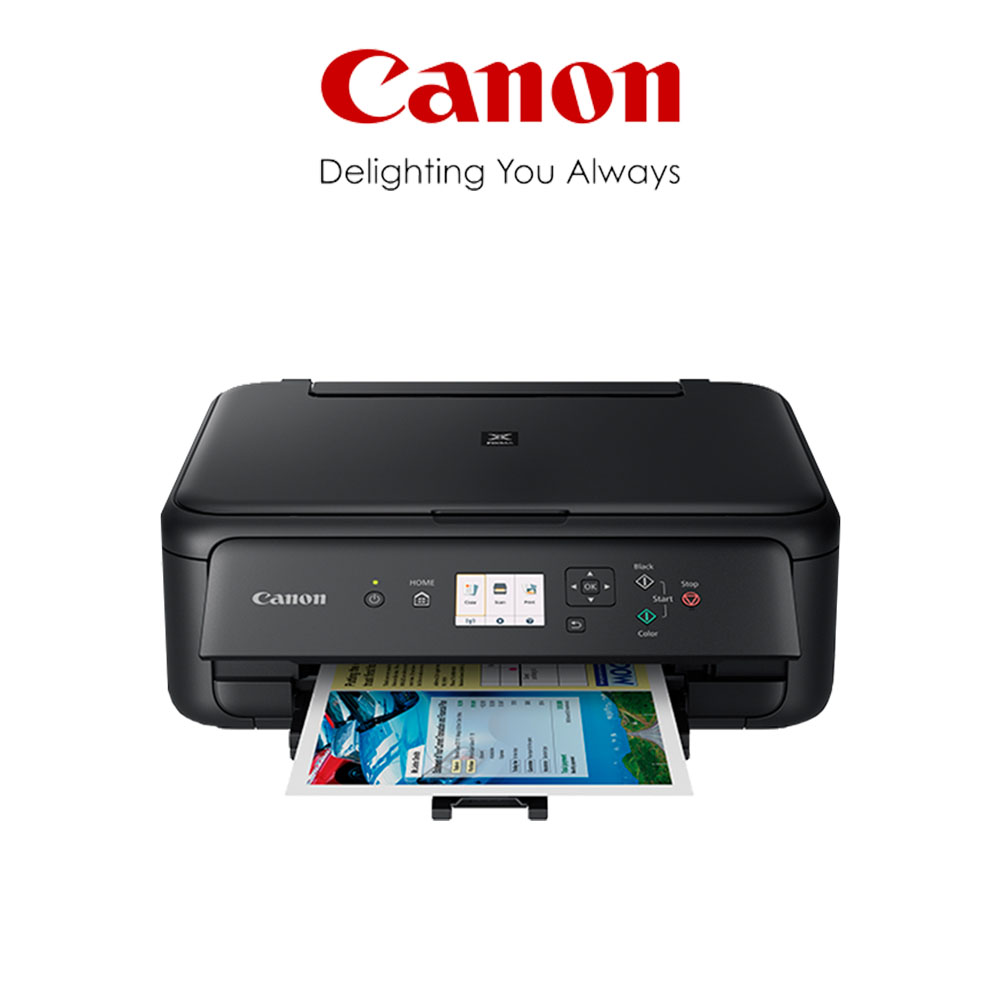printer: (158, 375, 880, 826)
